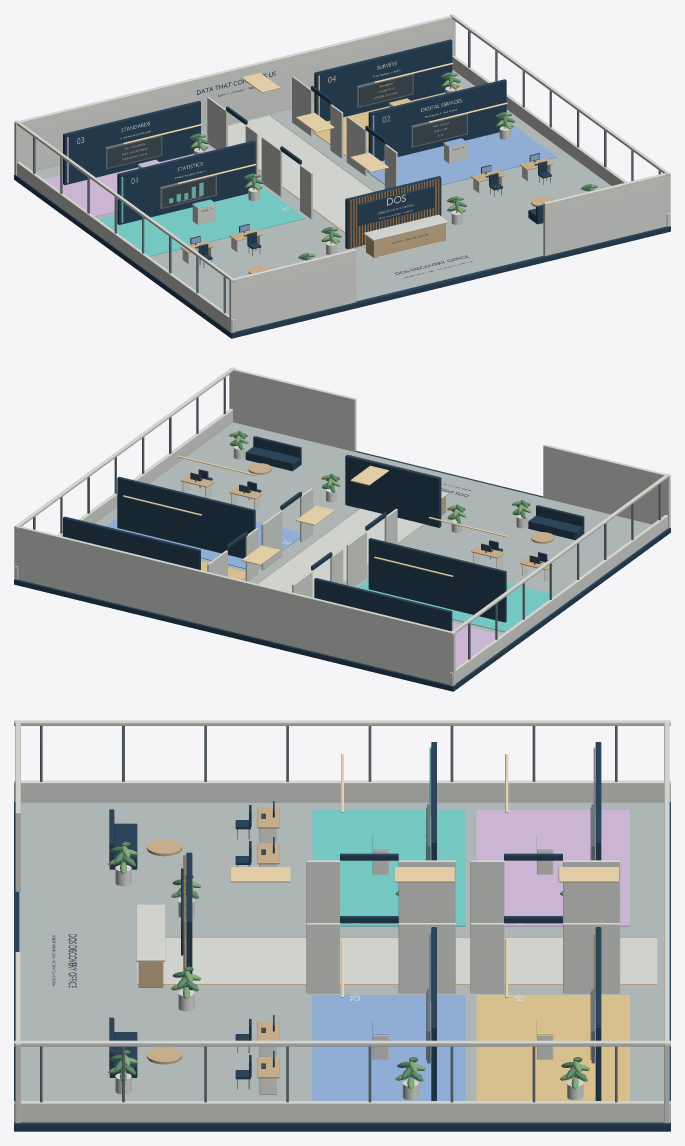
The model's file is DOS_Office.fbx.
3 views of the same model, one above another, from view 1: azimuth 30°, elevation 25°; view 2: azimuth 150°, elevation 25°; view 3: azimuth 270°, elevation 25° (orthographic). The views are drawn at different scales.
Parts seen in each view (by area): view 1: SM_DOSOffice; view 2: SM_DOSOffice; view 3: SM_DOSOffice.
Part boxes in pixels (x1,y1,x2,y2): SM_DOSOffice: [14, 14, 670, 338]; SM_DOSOffice: [14, 367, 670, 691]; SM_DOSOffice: [14, 720, 670, 1131].
Size of what is drawn, in the model's own units: 2800 by 2400 by 388.
